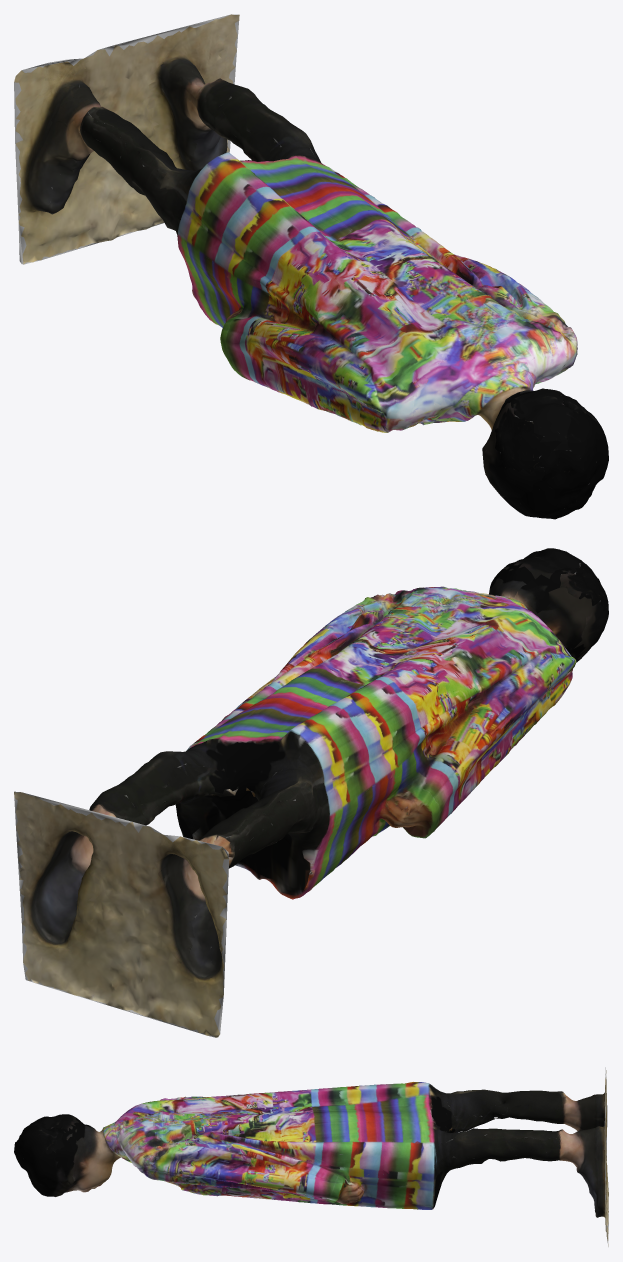
Rendered from light.obj.
3 views of the same model, one above another, from view 1: azimuth 30°, elevation 25°; view 2: azimuth 150°, elevation 25°; view 3: azimuth 270°, elevation 25° (orthographic). The views are drawn at different scales.
Size of the model in its own units: 13.39 by 11.03 by 45.97.
8 materials, 4 textured.
